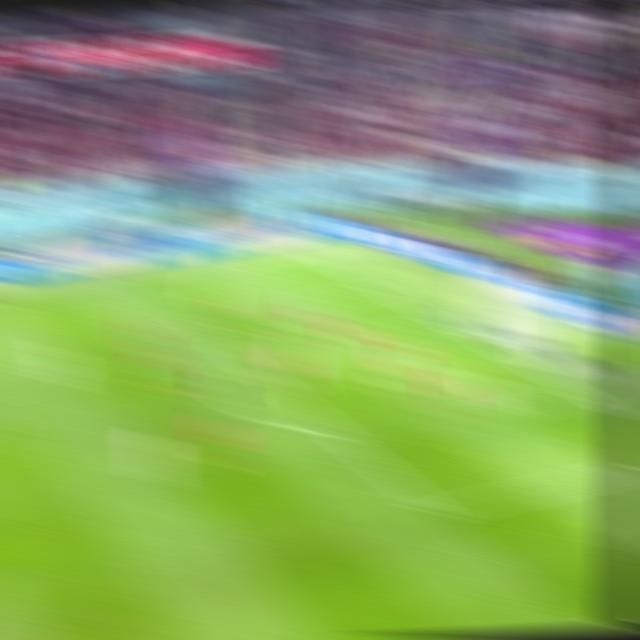bigarea_bottom_inner: (417, 494, 459, 528)
bigarea_top_inner: (175, 313, 209, 331)
bigarea_top_outter: (364, 283, 397, 298)
bottom_arc_area_intersection: (318, 422, 354, 444)
corner: (299, 252, 329, 262)
smallarea_bottom_inner: (492, 399, 529, 420)
smallarea_bottom_outter: (568, 387, 602, 404)
smallarea_top_inner: (366, 327, 400, 344)
smallarea_top_outter: (428, 315, 462, 333)
top_arc_area_intersection: (235, 356, 269, 376)
